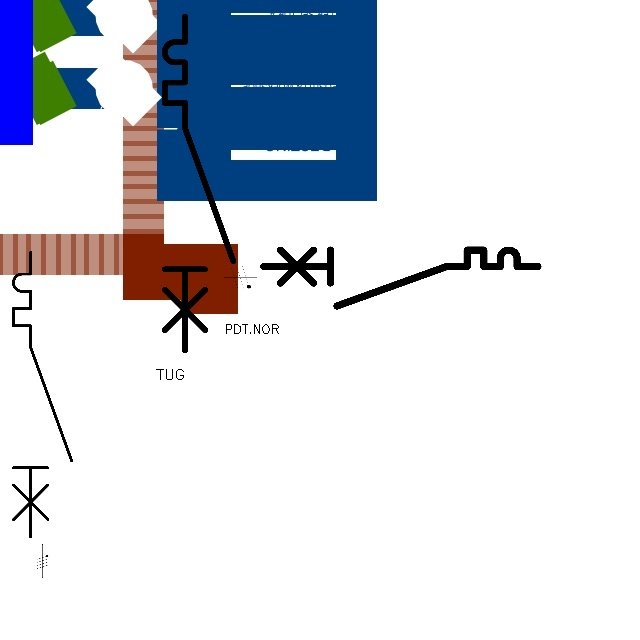interruptor_termomagnetico: (156, 8, 242, 359), (6, 245, 79, 544), (256, 243, 545, 313)
